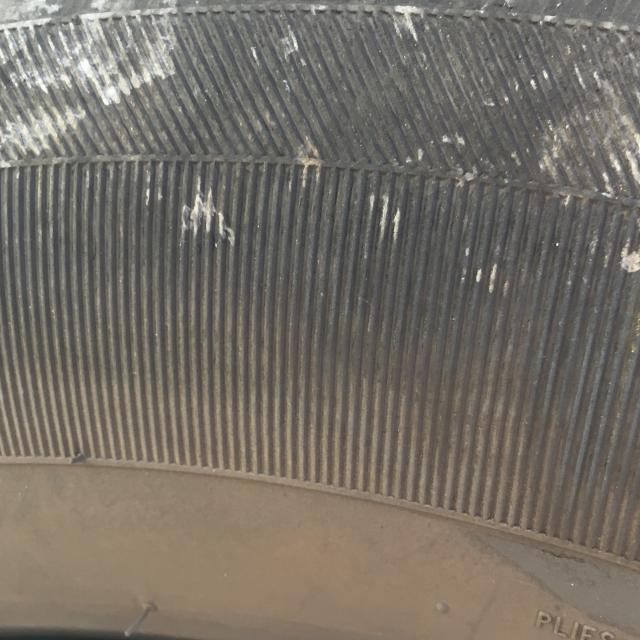Cracks: (479, 527, 613, 575)
